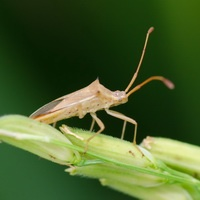insect: (30, 27, 173, 151)
